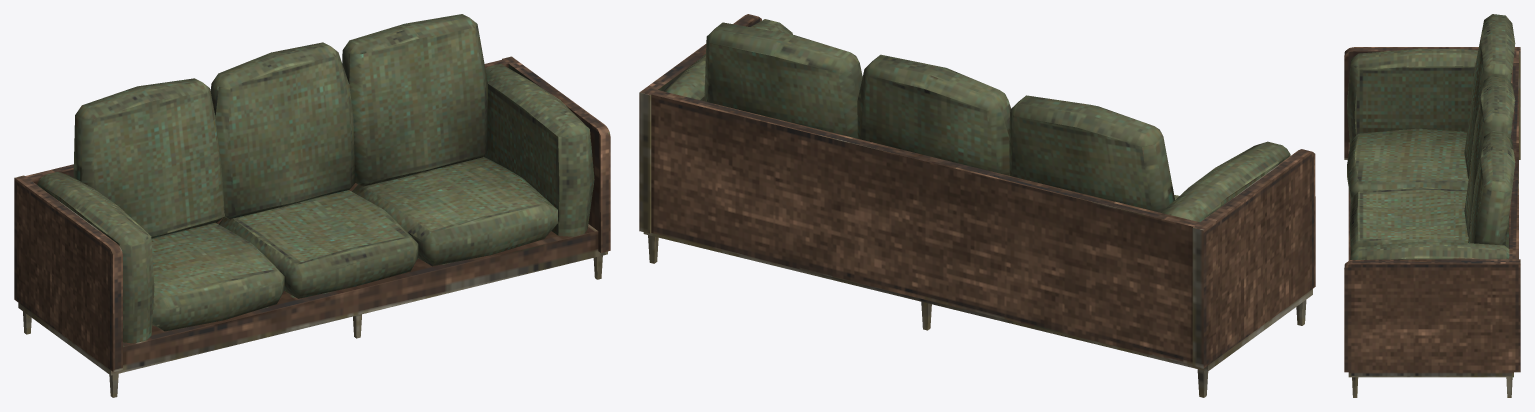
The model's file is TripleSeaterSofa.fbx.
3 renders of one model, left to right at view 1: azimuth 30°, elevation 25°; view 2: azimuth 150°, elevation 25°; view 3: azimuth 270°, elevation 25°, orthographic. The views are drawn at different scales.
Parts seen in each view (by area): view 1: TripleSeaterSofa; view 2: TripleSeaterSofa; view 3: TripleSeaterSofa.
Boxes of the visible parts, x1=… form: TripleSeaterSofa: x1=14, y1=14, x2=610, y2=397; TripleSeaterSofa: x1=639, y1=14, x2=1315, y2=397; TripleSeaterSofa: x1=1344, y1=14, x2=1520, y2=397.
Bounding box in the file's own units: 83.25 × 242 × 104.
